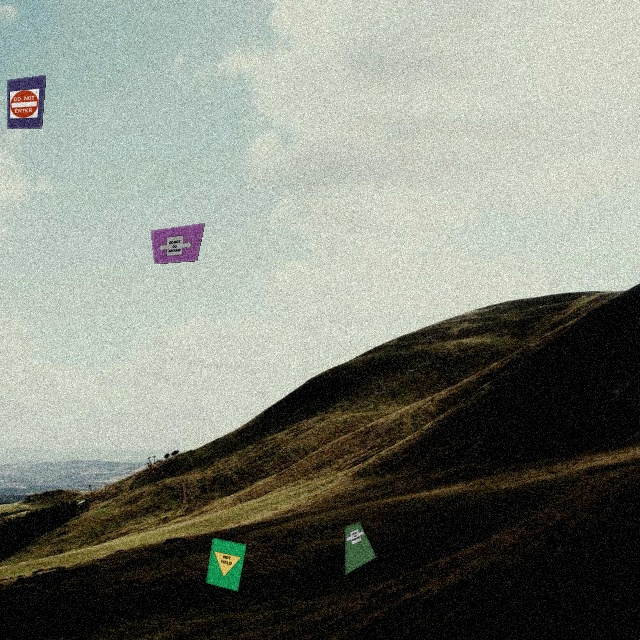DO_NOT_ENTER: (10, 86, 40, 123)
DO_NOT_GO_AROUND: (158, 232, 195, 259), (344, 527, 368, 548)
NOT_YIELD: (210, 550, 242, 581)
